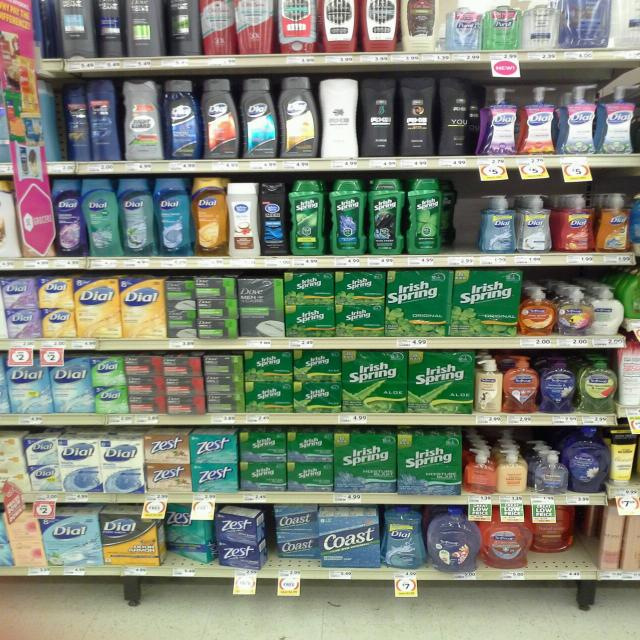100- O.O.S: (459, 178, 478, 265)
